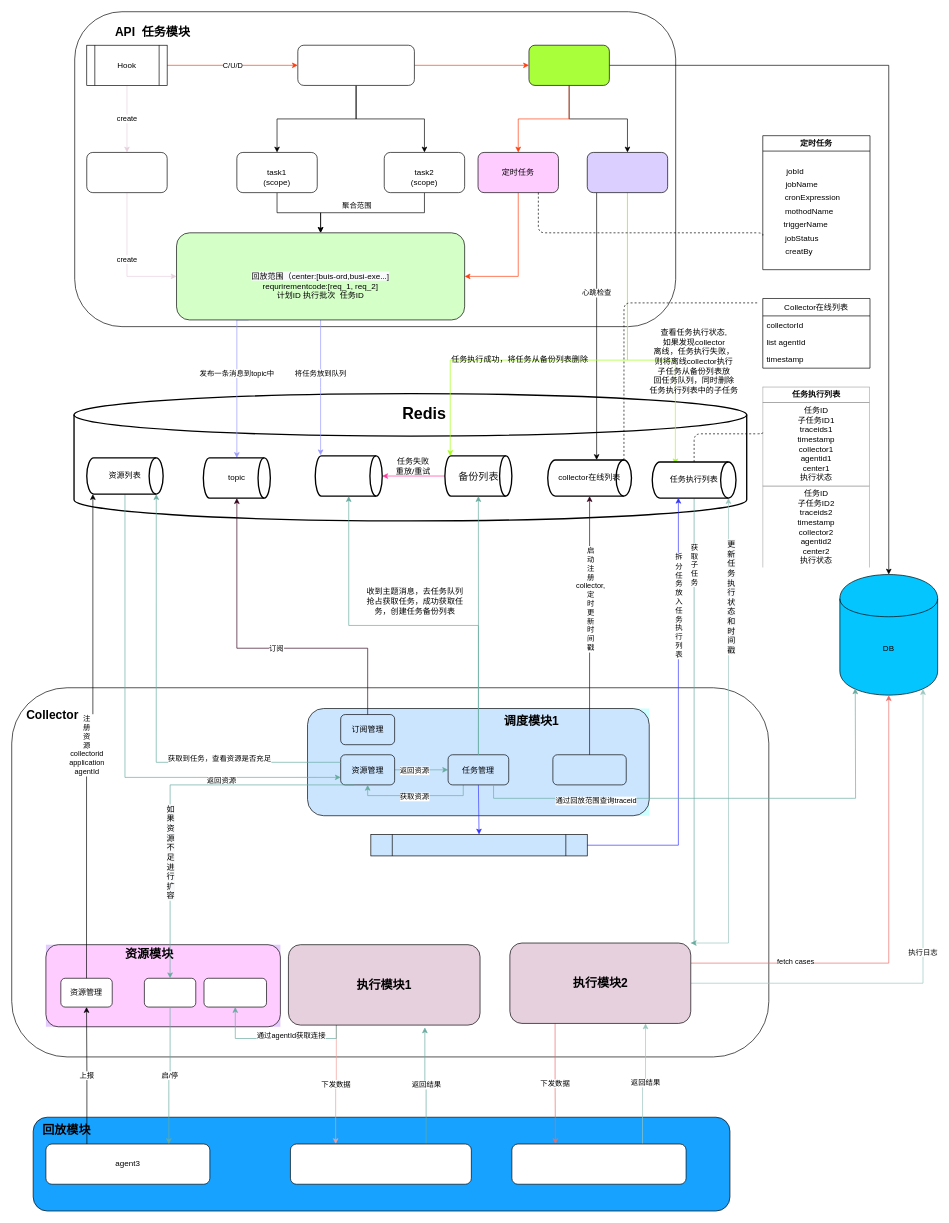
The diagram is 949 pixels wide and 1223 high, and some of its shapes have lost their labels. Each missing label, with the centre of its shape:
agent1: pixel 380 1163
agent2: pixel 598 1163
plan (schedule, requirementcode): pixel 355 65
Quatz: pixel 568 65
queue(list): pixel 348 475
task (scope): pixel 126 172
任务拆分: pixel 478 845
守护线程(系统初始化): pixel 627 172
扩缩容模块: pixel 170 992
注册管理: pixel 589 769
资源池 agentid--> 连接: pixel 235 992
